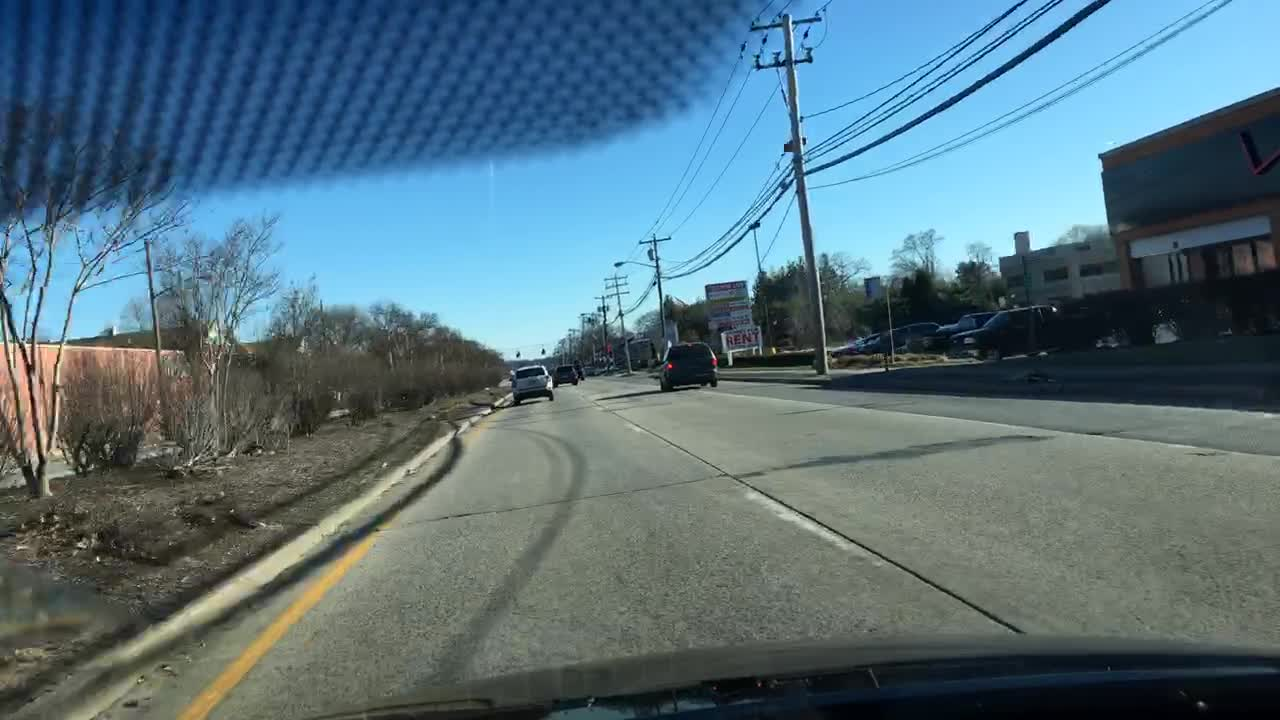car: (952, 299, 1060, 358), (905, 307, 998, 356), (655, 339, 720, 393), (857, 319, 942, 356), (509, 362, 557, 407), (828, 328, 884, 357), (552, 362, 580, 389), (574, 361, 587, 383)
